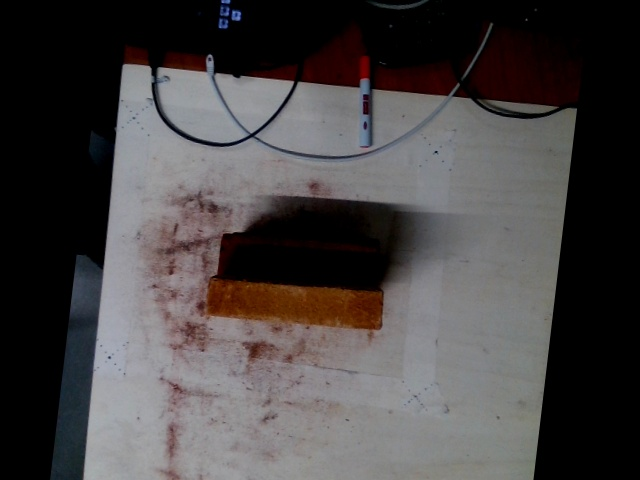brick-side: (208, 278, 384, 329)
